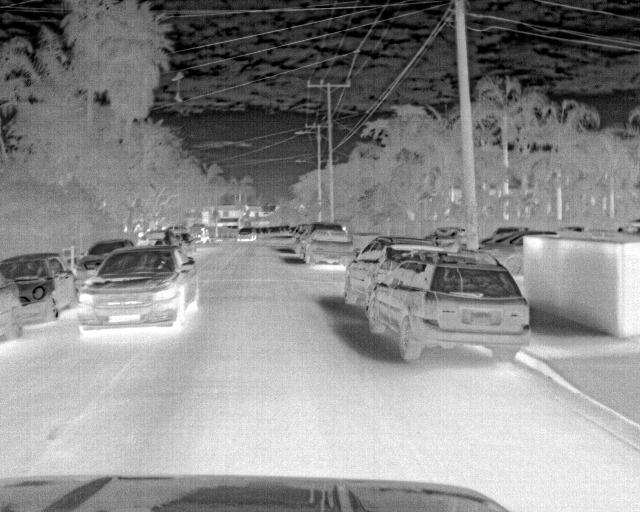car: (365, 256, 529, 365), (73, 245, 201, 332), (337, 234, 450, 308), (2, 253, 77, 325), (481, 228, 556, 276), (78, 239, 131, 292), (302, 223, 355, 268), (0, 272, 28, 343), (236, 226, 257, 241)
